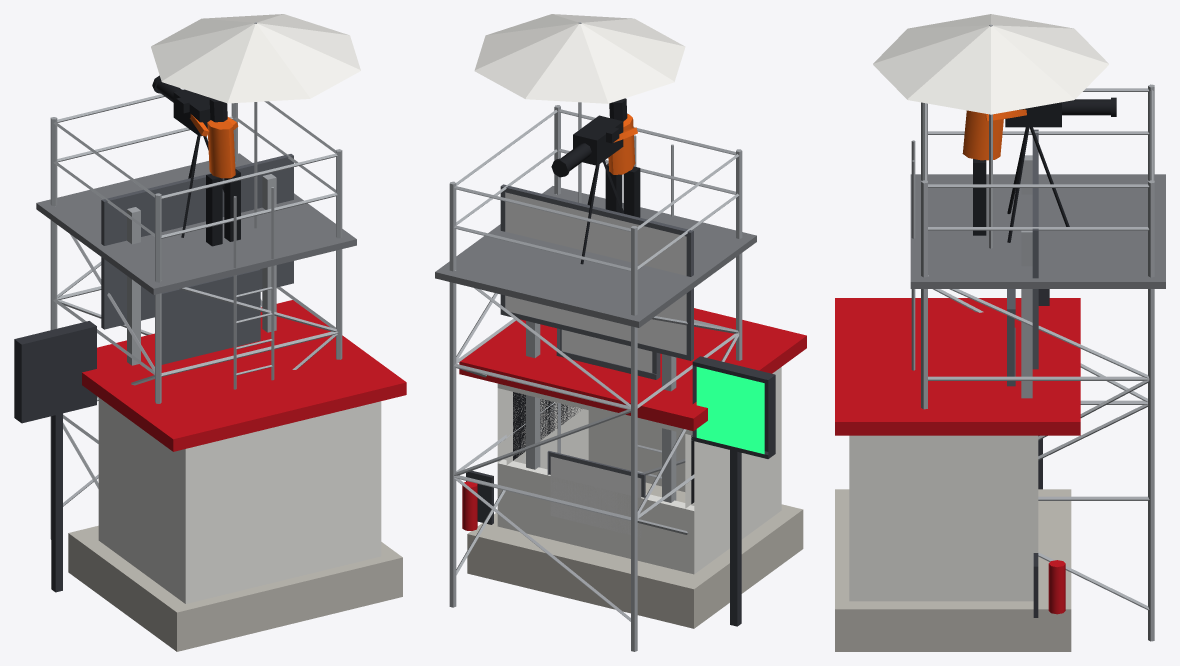
File: furniture.glb
3 renders of one model, left to right at view 1: azimuth 30°, elevation 25°; view 2: azimuth 150°, elevation 25°; view 3: azimuth 270°, elevation 25°, orthographic. The views are drawn at different scales.
Parts seen in each view (by area): view 1: marshal_post, camera_platform, corner_board; view 2: marshal_post, camera_platform, corner_board, brake_board; view 3: marshal_post, camera_platform, corner_board.
Part boxes in pixels (left/top/right/bottom): marshal_post: left=14, top=269, right=406, bottom=651; camera_platform: left=36, top=14, right=360, bottom=539; corner_board: left=101, top=154, right=293, bottom=365; marshal_post: left=459, top=308, right=806, bottom=628; camera_platform: left=435, top=14, right=756, bottom=651; corner_board: left=500, top=184, right=693, bottom=502; brake_board: left=547, top=451, right=645, bottom=537; marshal_post: left=835, top=289, right=1080, bottom=651; camera_platform: left=873, top=14, right=1165, bottom=641; corner_board: left=1021, top=129, right=1038, bottom=398.
Size of the model in its own units: 4.1 by 6.85 by 3.5.
